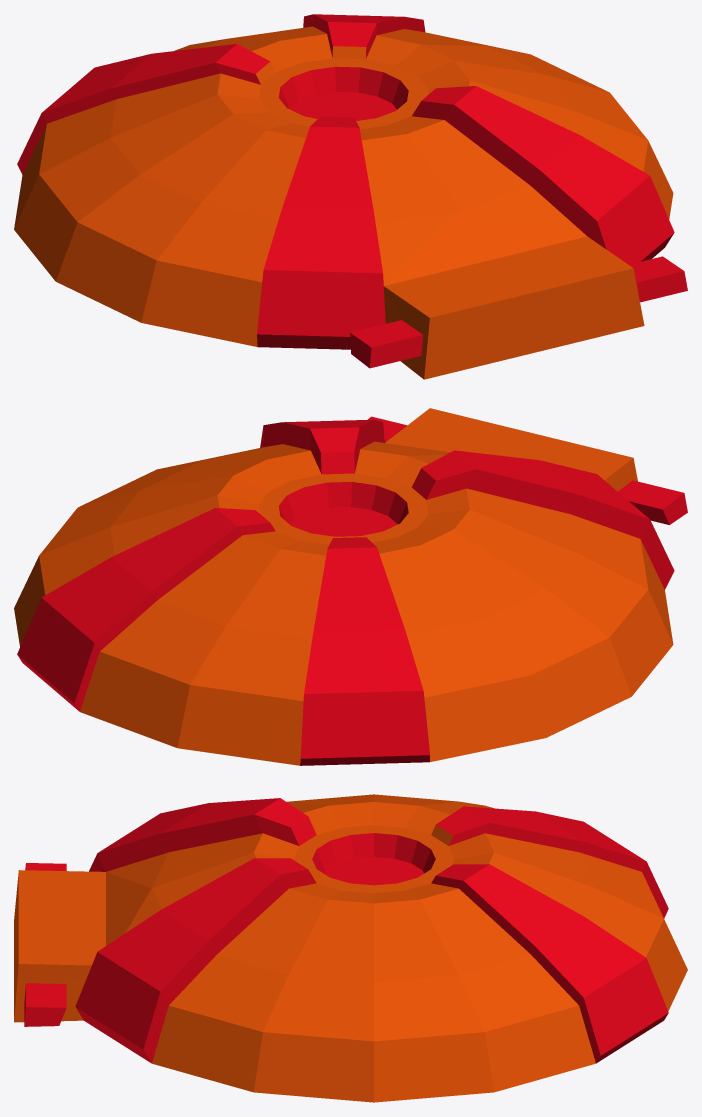
File: TunelDoor1.fbx
The picture shows the model from 3 angles, top to bottom: view 1: azimuth 30°, elevation 25°; view 2: azimuth 150°, elevation 25°; view 3: azimuth 270°, elevation 25°; orthographic projection. The views are drawn at different scales.
Visible parts, largest first — view 1: Sphere; view 2: Sphere; view 3: Sphere.
Part boxes in pixels (box(x1,y1,x2,y2)): Sphere: box(14, 14, 687, 379); Sphere: box(14, 408, 687, 765); Sphere: box(14, 794, 687, 1102).
Size of the model in its own units: 200 by 47.55 by 215.
